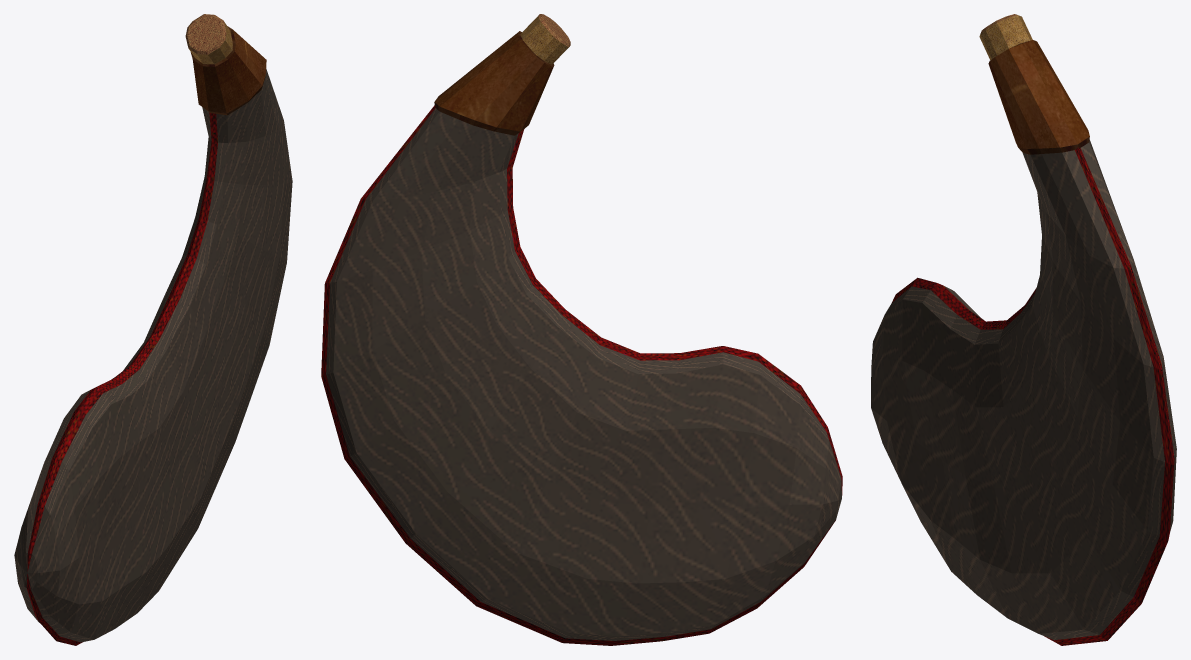
Rendered from QualityWaterskinEmpty.fbx.
3 renders of one model, left to right at view 1: azimuth 30°, elevation 25°; view 2: azimuth 150°, elevation 25°; view 3: azimuth 270°, elevation 25°, orthographic. The views are drawn at different scales.
Visible parts, largest first — view 1: ZomboidQualityWaterskin; view 2: ZomboidQualityWaterskin; view 3: ZomboidQualityWaterskin.
Part boxes in pixels (box(x1,y1,x2,y2)): ZomboidQualityWaterskin: box(14, 14, 292, 645); ZomboidQualityWaterskin: box(321, 14, 842, 645); ZomboidQualityWaterskin: box(871, 14, 1176, 645).
Bounding box in the file's own units: 0.1519 × 0.2225 × 0.0938.
